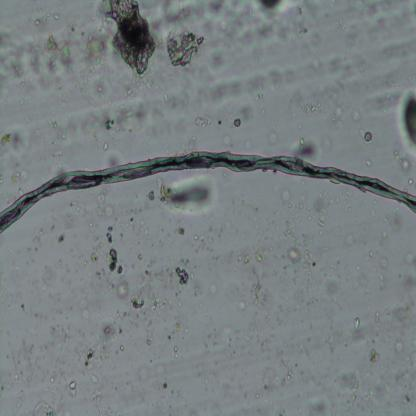Background material: (0, 7, 107, 100), (94, 0, 156, 93), (81, 308, 130, 372), (90, 98, 154, 138), (157, 173, 217, 211), (86, 220, 124, 275), (211, 68, 272, 101), (312, 189, 356, 228), (162, 31, 204, 71), (233, 5, 275, 42), (150, 261, 190, 293), (150, 0, 192, 30), (398, 83, 416, 152), (327, 50, 365, 78), (359, 90, 402, 114), (129, 292, 173, 315), (335, 370, 359, 406), (291, 132, 321, 158), (291, 2, 310, 40), (250, 275, 270, 310), (0, 131, 28, 156), (45, 114, 67, 144), (322, 272, 342, 303), (87, 386, 107, 416), (229, 104, 254, 126), (259, 0, 286, 20), (189, 107, 212, 130), (301, 94, 323, 116), (302, 248, 317, 280), (392, 148, 412, 172), (208, 44, 226, 70), (379, 210, 404, 228), (166, 314, 182, 342), (326, 109, 346, 131), (142, 316, 155, 349), (287, 238, 302, 266), (30, 400, 54, 416), (360, 1, 384, 17), (357, 128, 376, 147), (269, 67, 284, 91), (176, 137, 199, 152), (283, 96, 298, 119), (95, 186, 106, 217), (201, 0, 225, 14), (8, 172, 30, 187), (309, 401, 330, 416), (33, 123, 46, 147), (390, 337, 406, 356), (310, 54, 324, 75), (394, 274, 415, 288), (135, 366, 151, 384), (266, 126, 282, 144), (363, 385, 379, 403), (259, 332, 275, 350), (114, 280, 130, 298), (391, 306, 409, 322), (356, 272, 369, 294), (80, 298, 93, 320), (69, 196, 84, 215), (206, 327, 219, 348), (367, 347, 382, 365), (240, 329, 258, 344), (21, 338, 32, 362), (32, 226, 45, 246), (153, 360, 167, 378), (51, 152, 65, 170), (13, 390, 23, 414), (392, 366, 407, 382), (47, 377, 60, 394), (160, 87, 170, 108), (36, 277, 50, 292), (377, 271, 387, 292), (335, 18, 348, 34), (254, 249, 266, 266), (344, 229, 354, 249), (285, 218, 296, 236), (405, 252, 416, 270), (67, 378, 77, 397), (63, 214, 74, 231), (326, 334, 336, 352), (61, 327, 72, 343), (206, 280, 217, 295), (379, 255, 389, 271), (116, 216, 128, 229), (171, 344, 180, 361), (12, 371, 24, 383), (106, 203, 115, 219), (379, 227, 387, 245), (372, 309, 380, 327), (351, 108, 361, 122), (24, 116, 34, 130), (18, 98, 28, 112), (90, 372, 99, 386), (222, 135, 233, 146), (195, 232, 205, 244), (352, 317, 360, 332), (253, 89, 263, 101), (226, 333, 233, 349), (332, 256, 340, 270), (333, 225, 341, 239), (10, 264, 21, 274), (49, 325, 58, 337), (242, 252, 251, 264), (237, 299, 246, 311), (214, 115, 223, 127), (282, 189, 289, 204), (176, 226, 186, 236), (381, 382, 391, 392), (364, 369, 373, 380), (144, 227, 152, 239), (100, 141, 108, 153), (305, 207, 312, 220), (276, 407, 286, 416), (107, 281, 115, 292), (203, 339, 209, 353), (370, 207, 377, 219), (141, 267, 150, 276), (406, 177, 414, 187), (58, 234, 66, 244), (276, 316, 284, 326), (18, 302, 26, 312), (263, 377, 269, 390), (149, 190, 156, 201), (238, 197, 246, 206), (364, 158, 372, 167), (368, 249, 376, 258), (286, 368, 292, 380), (352, 264, 360, 273), (140, 218, 146, 229), (136, 253, 144, 261), (202, 378, 210, 386), (298, 178, 306, 186), (279, 376, 287, 384), (32, 245, 40, 253), (295, 201, 302, 210), (280, 359, 289, 366), (32, 311, 40, 318), (26, 375, 34, 382), (264, 315, 272, 322), (56, 256, 62, 265), (404, 393, 410, 402), (406, 354, 411, 364), (226, 223, 232, 231), (384, 307, 390, 315), (50, 223, 55, 232), (371, 199, 378, 205), (163, 383, 168, 391), (130, 216, 134, 226), (83, 258, 88, 266), (1, 385, 6, 392), (297, 123, 302, 130), (344, 338, 348, 346), (286, 203, 292, 208), (237, 256, 242, 262), (214, 256, 220, 260), (170, 388, 174, 394), (244, 391, 247, 399), (412, 340, 416, 346), (255, 393, 259, 399), (196, 372, 201, 376), (168, 404, 172, 409), (178, 303, 182, 308), (319, 230, 323, 235), (294, 362, 298, 367), (284, 341, 287, 346), (196, 247, 198, 254), (66, 316, 68, 321)
Cotton: (0, 147, 416, 233)
